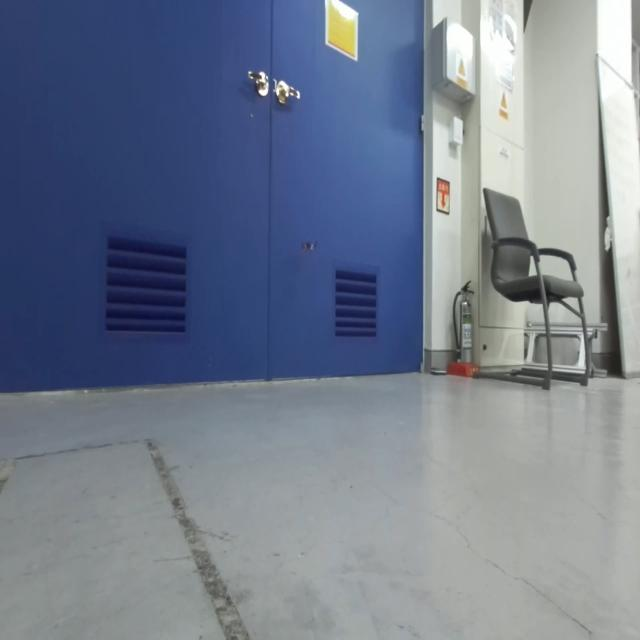crazyflie: (292, 232, 329, 270)
